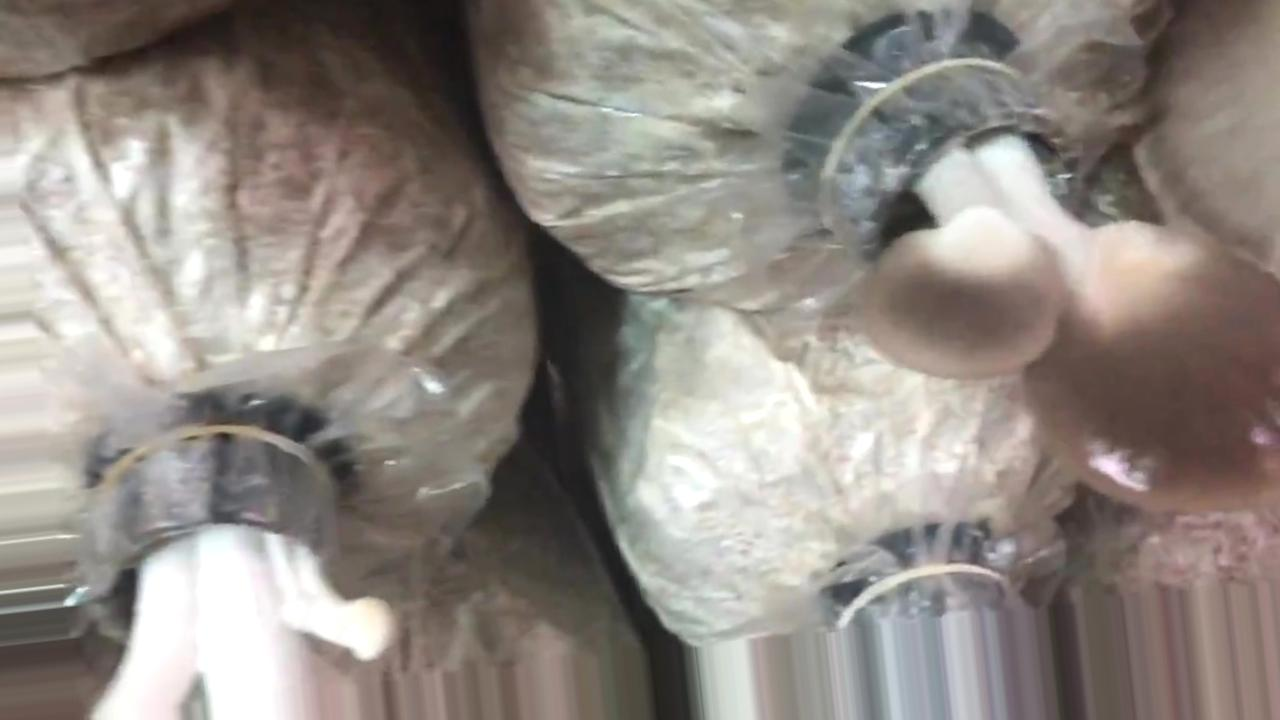nam: (849, 62, 1280, 516)
